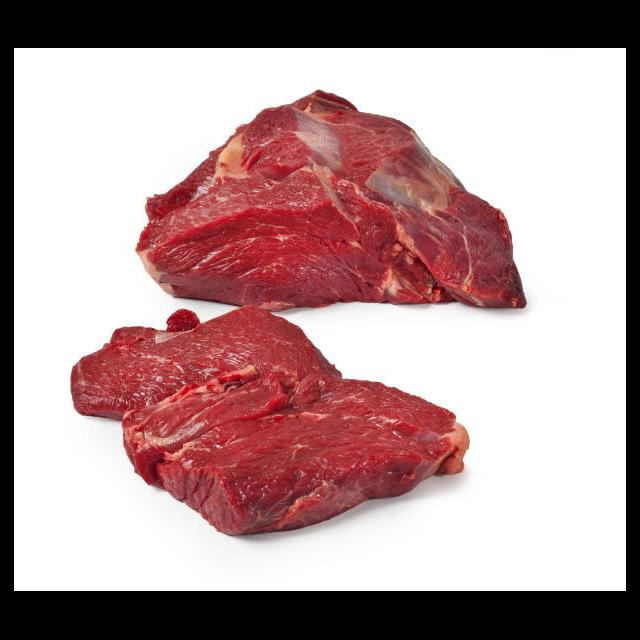beef: (68, 308, 470, 536), (135, 88, 531, 316)
